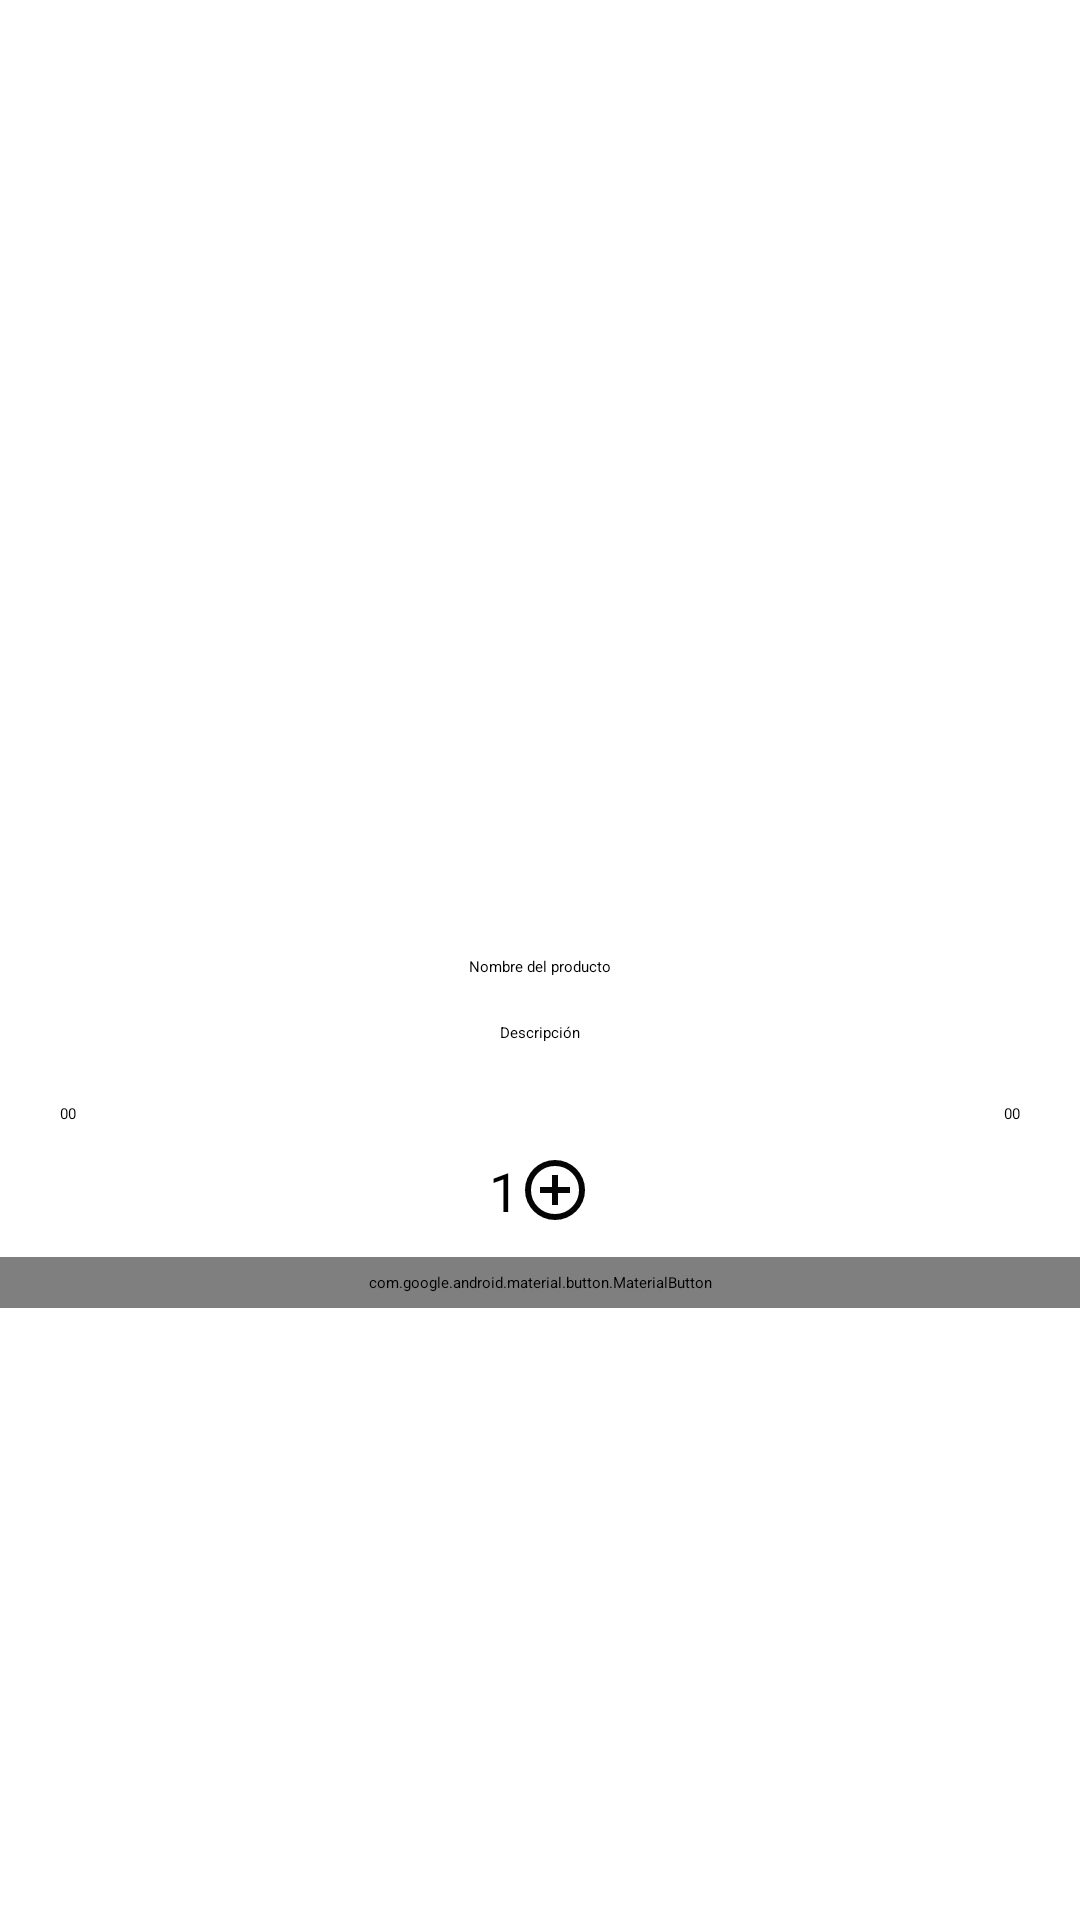

Screen size 1080px×1920px. Icon name, then its center in pixels as [x,y]:
incrementar: [555,1190]
